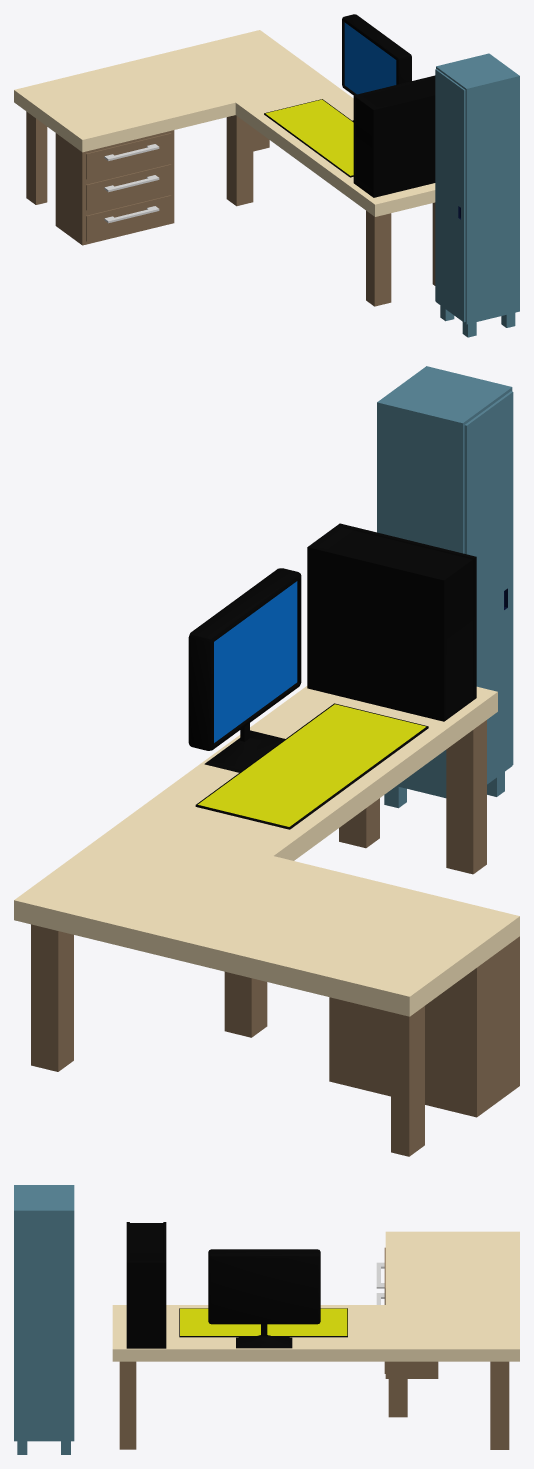
Rendered from backOffice4Class.fbx.
3 views of the same model, one above another, from view 1: azimuth 30°, elevation 25°; view 2: azimuth 150°, elevation 25°; view 3: azimuth 270°, elevation 25° (orthographic). The views are drawn at different scales.
Parts seen in each view (by area): view 1: Desk, Cube, PC Tower, Monitor, Mousepad; view 2: Desk, Cube, PC Tower, Monitor, Mousepad; view 3: Desk, Cube, Monitor, PC Tower, Mousepad.
Boxes of the visible parts, left/top/right/bottom form: Desk: left=14, top=30, right=435, bottom=306; Cube: left=435, top=53, right=519, bottom=337; PC Tower: left=353, top=75, right=435, bottom=197; Monitor: left=342, top=14, right=411, bottom=121; Mousepad: left=264, top=99, right=353, bottom=177; Desk: left=14, top=686, right=519, bottom=1156; Cube: left=377, top=366, right=513, bottom=808; PC Tower: left=307, top=523, right=476, bottom=721; Monitor: left=188, top=568, right=301, bottom=772; Mousepad: left=195, top=703, right=428, bottom=829; Desk: left=112, top=1231, right=519, bottom=1449; Cube: left=14, top=1185, right=74, bottom=1454; Monitor: left=208, top=1249, right=320, bottom=1348; PC Tower: left=126, top=1222, right=166, bottom=1348; Mousepad: left=179, top=1308, right=347, bottom=1337.
Bounding box in the file's own units: 103 × 99.43 × 186.
